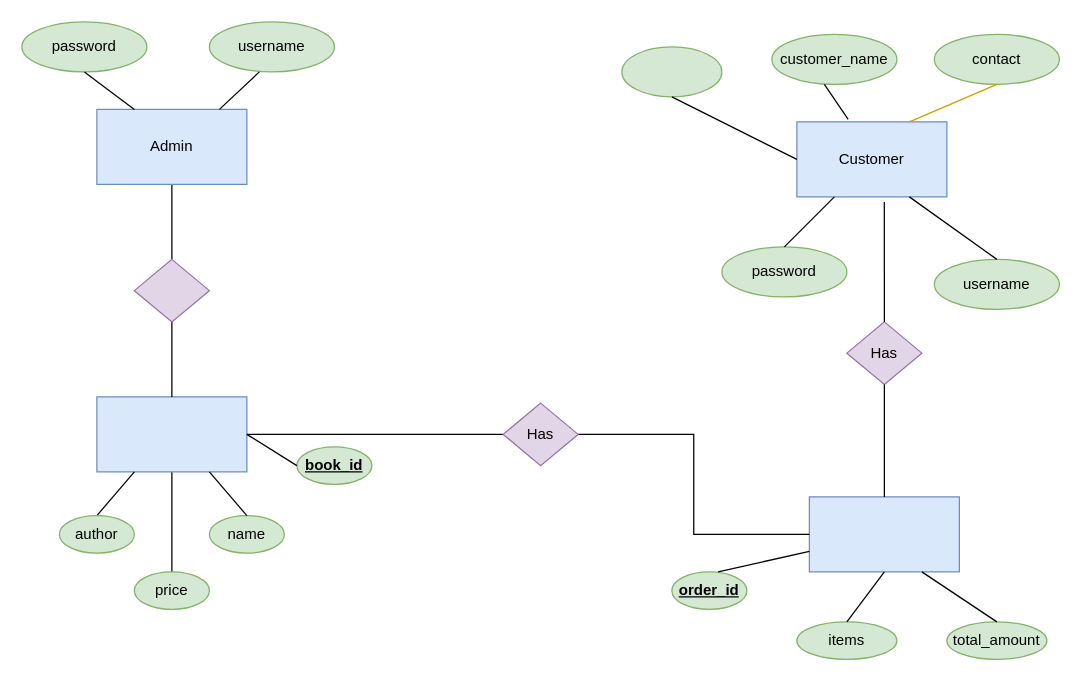
Image size: 1081x681. Some labels were removed from this diagram. Here are the shapes that lost their labels. From the top down, the centre of each, then its label:
the point at 671,71: customer_id
the point at 171,290: upload
the point at 171,434: Book
the point at 883,534: Cart
